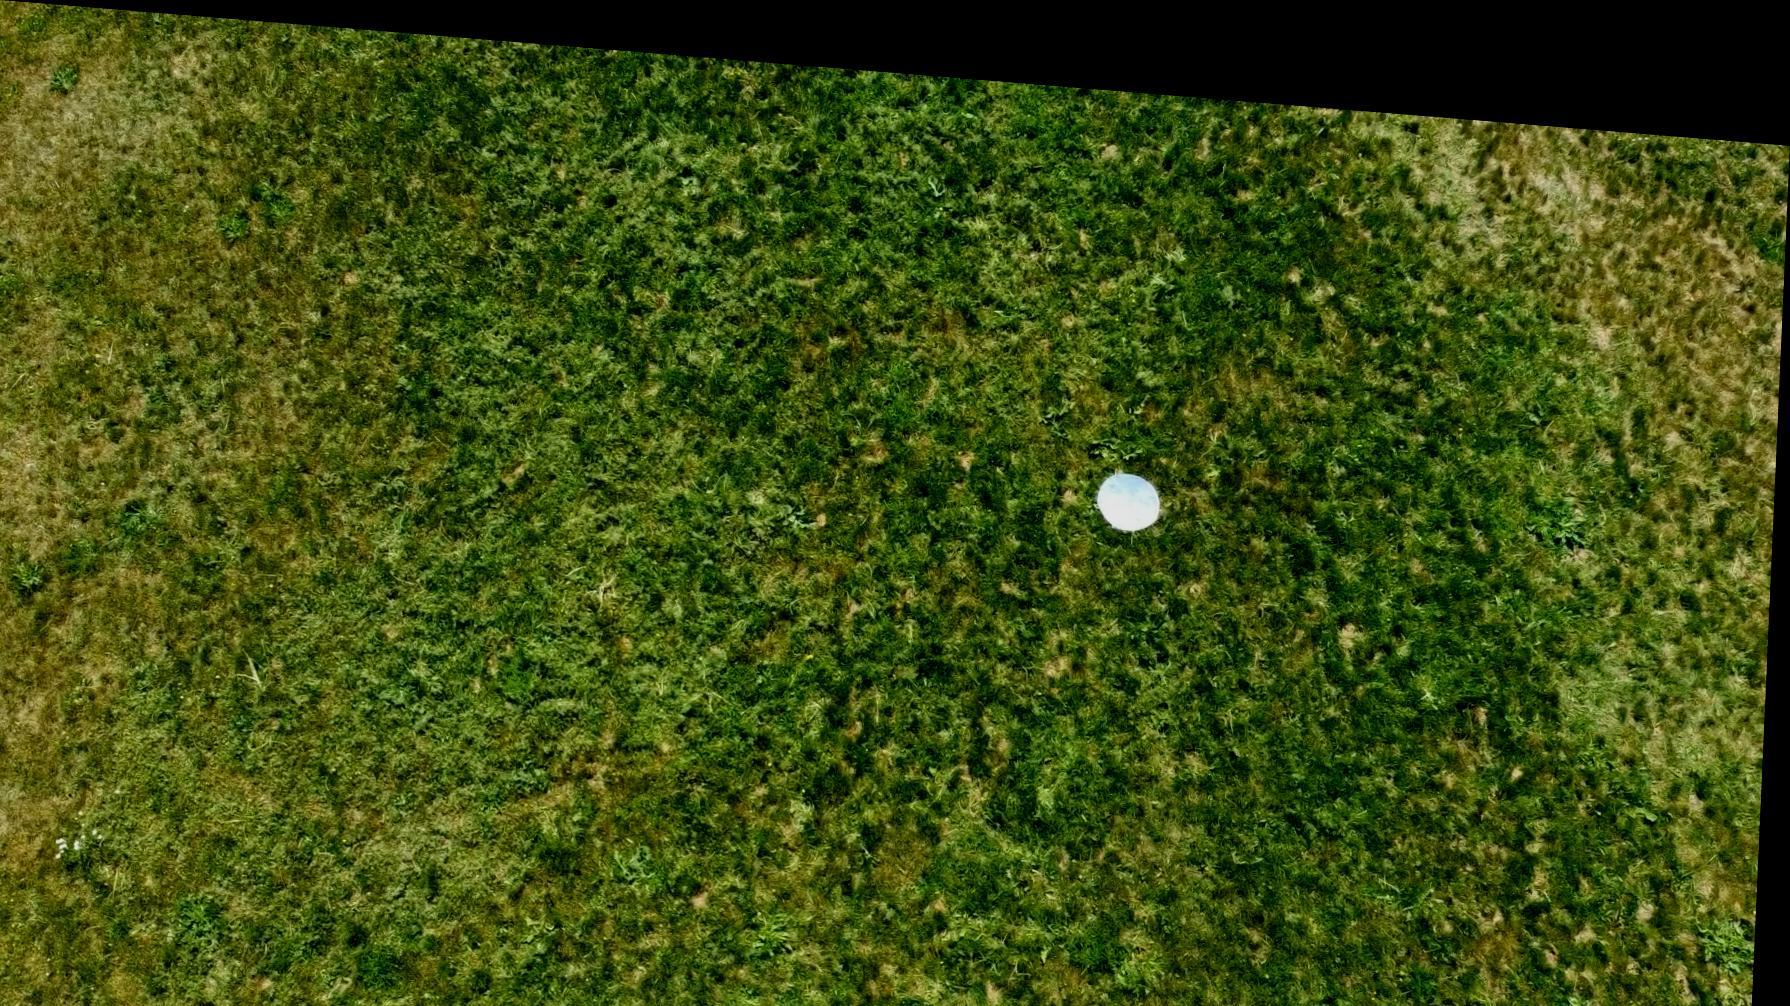Blue: (1095, 449, 1168, 515)
